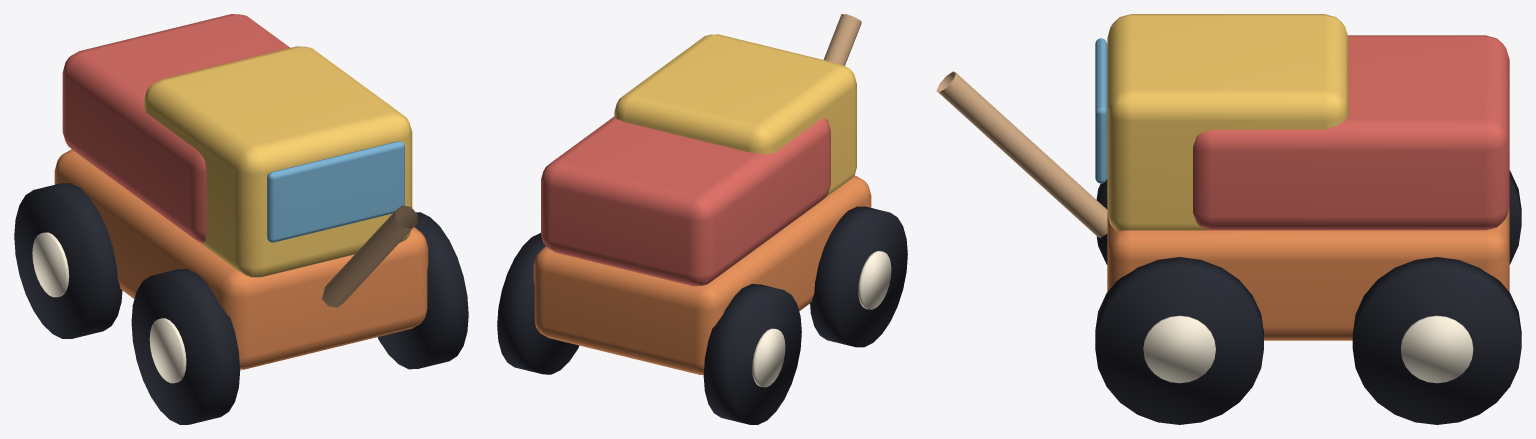
File: word-wagon.glb
3 renders of one model, left to right at view 1: azimuth 30°, elevation 25°; view 2: azimuth 150°, elevation 25°; view 3: azimuth 270°, elevation 25°, orthographic. The views are drawn at different scales.
Parts seen in each view (by area): view 1: cabin, vehicle body, wagon cargo, rubber wheel, rubber wheel.001, windshield, rubber wheel.002, pull handle, wheel hub, wheel hub.001; view 2: wagon cargo, vehicle body, cabin, rubber wheel.001, rubber wheel, rubber wheel.003, wheel hub.001, wheel hub, pull handle; view 3: wagon cargo, cabin, vehicle body, rubber wheel.003, rubber wheel.002, pull handle, wheel hub.002, wheel hub.003, windshield, rubber wheel.001.
Boxes of the visible parts, x1,y1,x2,y2 form: cabin: [144, 46, 412, 277]; vehicle body: [54, 149, 428, 369]; wagon cargo: [62, 14, 289, 243]; rubber wheel: [131, 269, 240, 424]; rubber wheel.001: [14, 183, 122, 338]; windshield: [267, 141, 404, 242]; rubber wheel.002: [377, 212, 468, 369]; pull handle: [322, 205, 417, 307]; wheel hub: [149, 318, 186, 383]; wheel hub.001: [32, 232, 69, 297]; wagon cargo: [541, 116, 830, 286]; vehicle body: [533, 175, 871, 374]; cabin: [614, 34, 856, 196]; rubber wheel.001: [703, 284, 801, 424]; rubber wheel: [810, 206, 907, 347]; rubber wheel.003: [497, 233, 578, 374]; wheel hub.001: [752, 328, 785, 387]; wheel hub: [858, 251, 891, 309]; pull handle: [823, 14, 861, 65]; wagon cargo: [1193, 35, 1509, 230]; cabin: [1107, 14, 1348, 230]; vehicle body: [1107, 207, 1509, 340]; rubber wheel.003: [1352, 257, 1521, 424]; rubber wheel.002: [1095, 257, 1263, 424]; pull handle: [936, 71, 1107, 237]; wheel hub.002: [1143, 315, 1215, 383]; wheel hub.003: [1401, 315, 1473, 383]; windshield: [1095, 38, 1107, 183]; rubber wheel.001: [1509, 170, 1521, 264].
Bounding box in the file's own units: 0.844 × 0.83 × 1.45.
